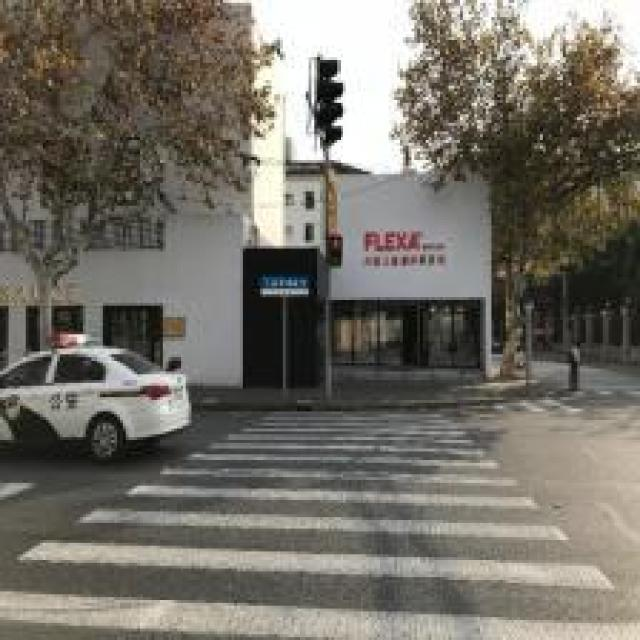walk-crossing: (72, 415, 577, 640), (498, 387, 640, 418)
